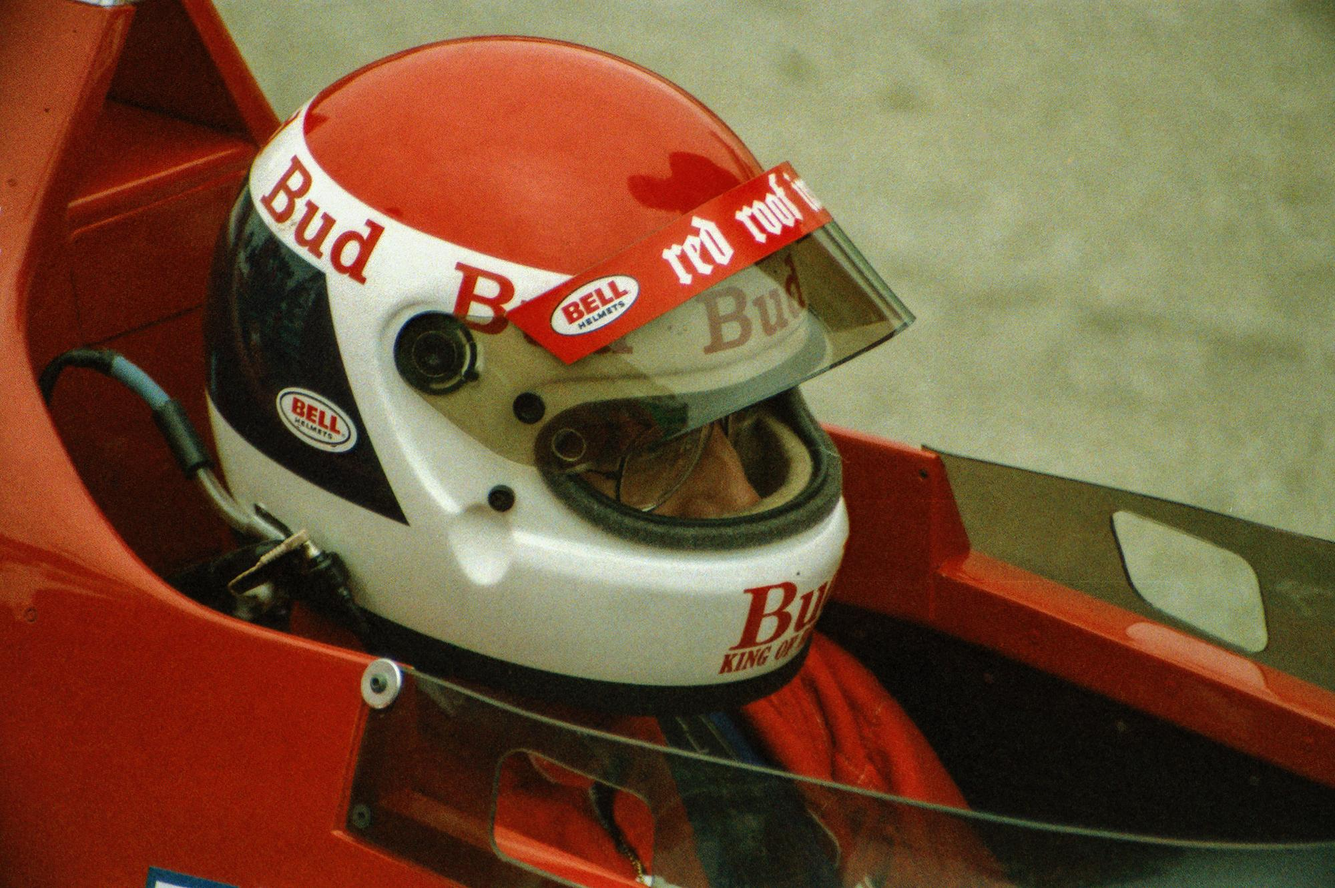helmet: (197, 30, 921, 722)
